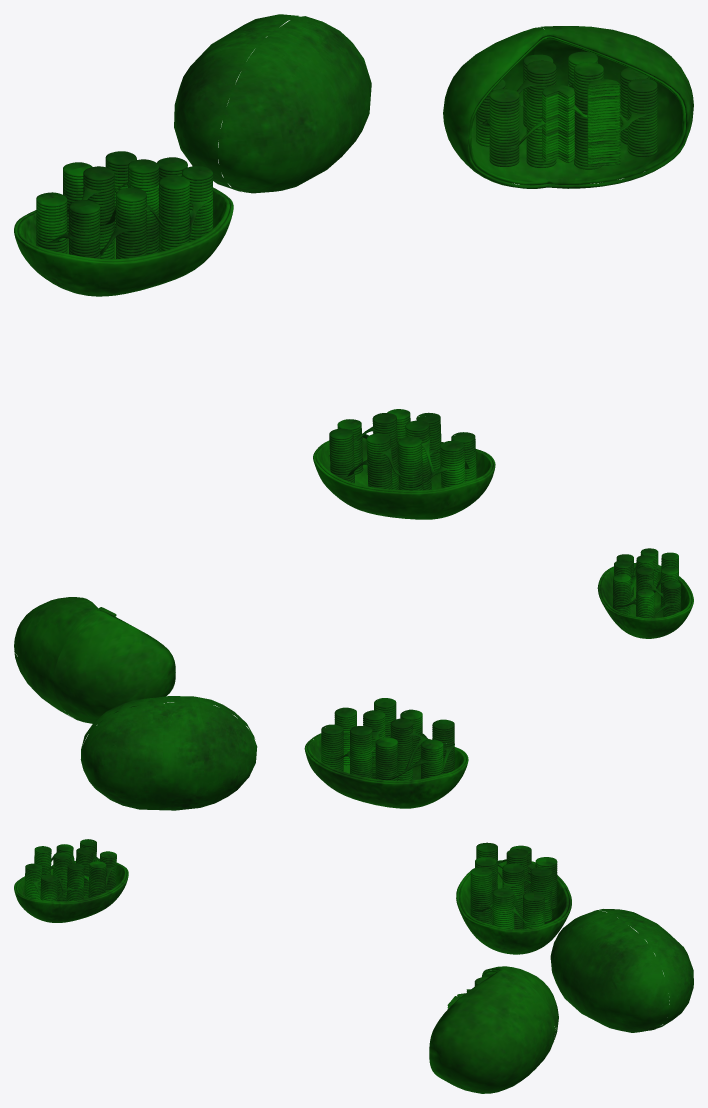
The model's file is chloroplast.glb.
The picture shows the model from 3 angles, top to bottom: view 1: azimuth 30°, elevation 25°; view 2: azimuth 150°, elevation 25°; view 3: azimuth 270°, elevation 25°; orthographic projection. The views are drawn at different scales.
Parts seen in each view (by area): view 1: chloroplast; view 2: chloroplast; view 3: chloroplast.
Part boxes in pixels (x1,y1,x2,y2): chloroplast: [14, 14, 693, 519]; chloroplast: [14, 548, 693, 810]; chloroplast: [14, 839, 693, 1093].
Size of the model in its own units: 4.39 by 1.06 by 5.8.
5 materials, 5 textured.
